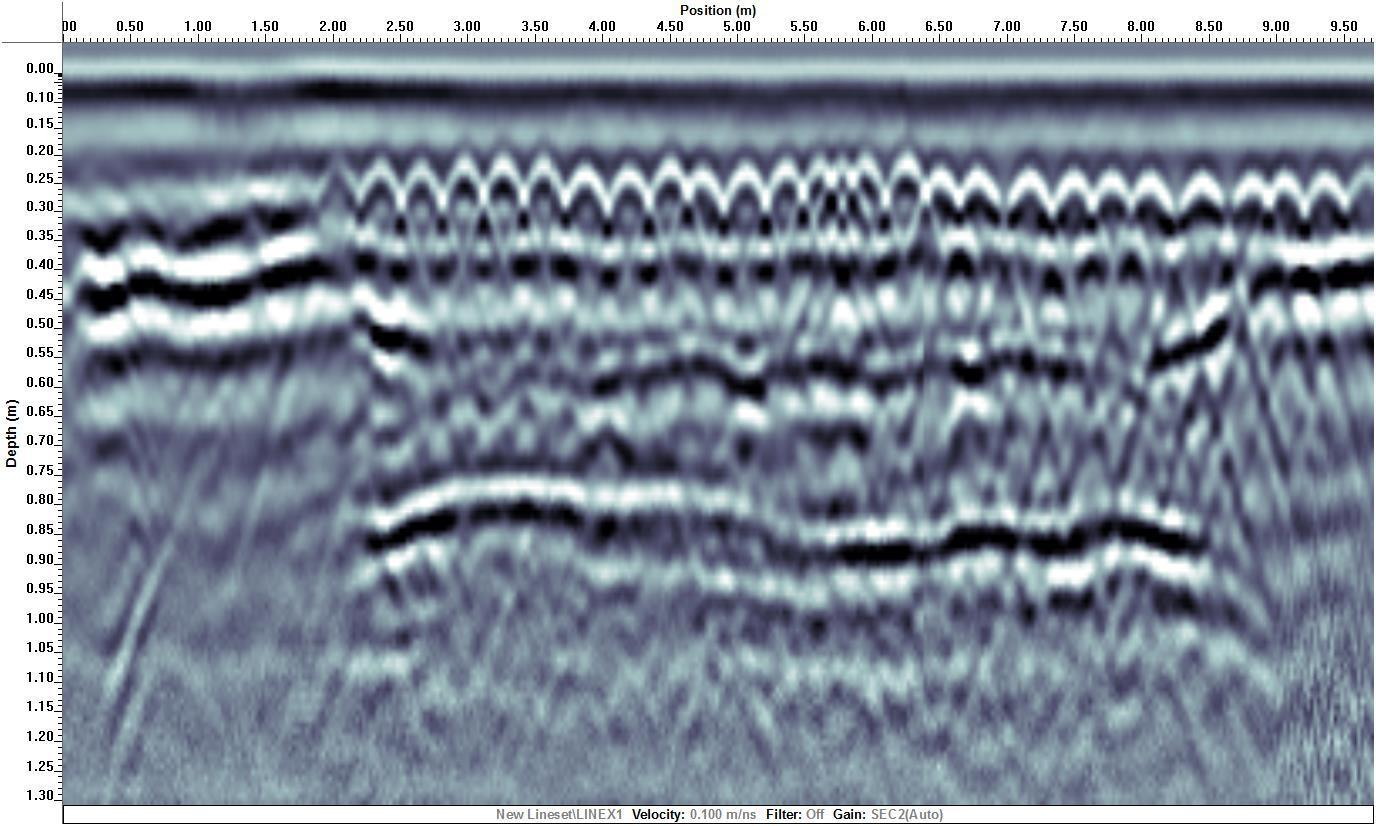hyperbola: (349, 156, 401, 288), (392, 158, 444, 290), (437, 156, 489, 288), (476, 154, 528, 286), (516, 153, 568, 285), (561, 156, 613, 288), (598, 155, 650, 287), (640, 154, 692, 286), (682, 155, 734, 287), (722, 159, 774, 291), (1007, 161, 1059, 293), (1050, 162, 1102, 294), (1087, 160, 1139, 292), (1128, 163, 1180, 295), (1174, 161, 1226, 293), (1222, 161, 1274, 293), (1256, 160, 1308, 292), (1302, 162, 1354, 294)
